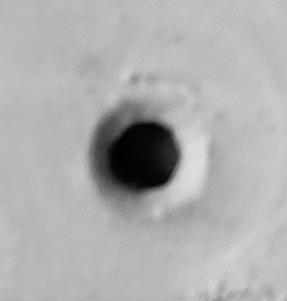missing-head: (1, 1, 287, 301)
